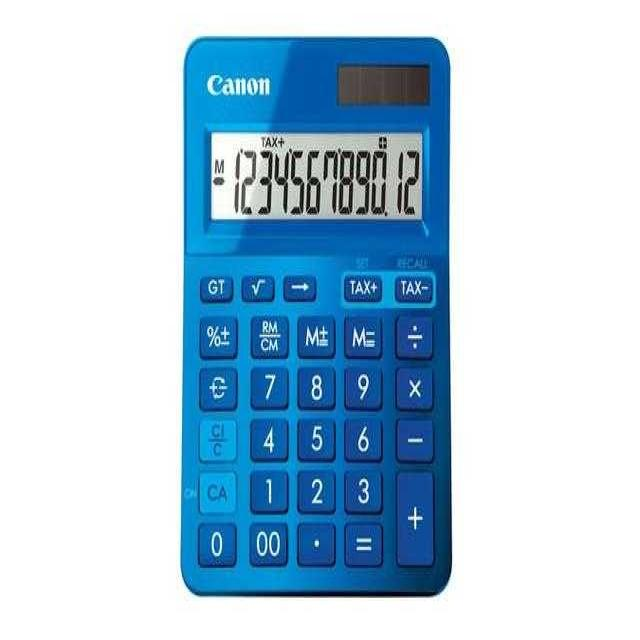Calculator: (179, 33, 452, 596)
